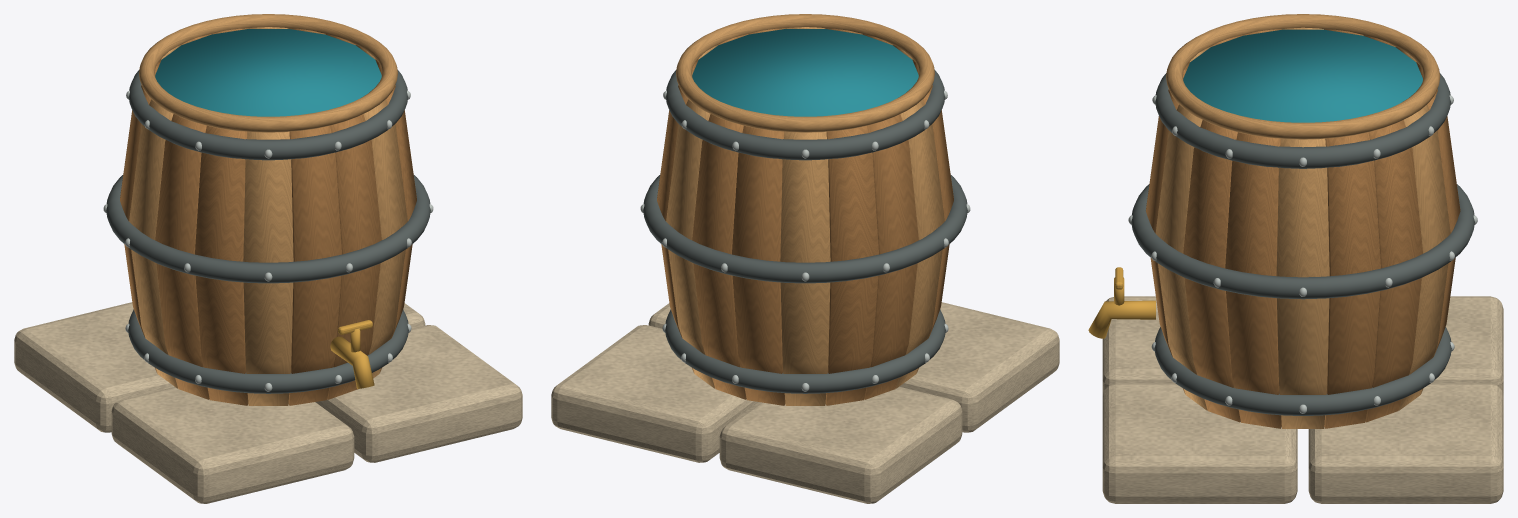
File: water-barrel.glb
3 views of the same model, side by side, from view 1: azimuth 30°, elevation 25°; view 2: azimuth 150°, elevation 25°; view 3: azimuth 270°, elevation 25° (orthographic). The views are drawn at different scales.
Parts seen in each view (by area): view 1: water_barrel; view 2: water_barrel; view 3: water_barrel.
Part boxes in pixels (x1,y1,x2,y2): water_barrel: (14, 14, 522, 503); water_barrel: (551, 14, 1059, 503); water_barrel: (1088, 14, 1503, 503).
Size of the model in its own units: 1.09 by 1.06 by 1.13.
7 materials, 3 textured.
